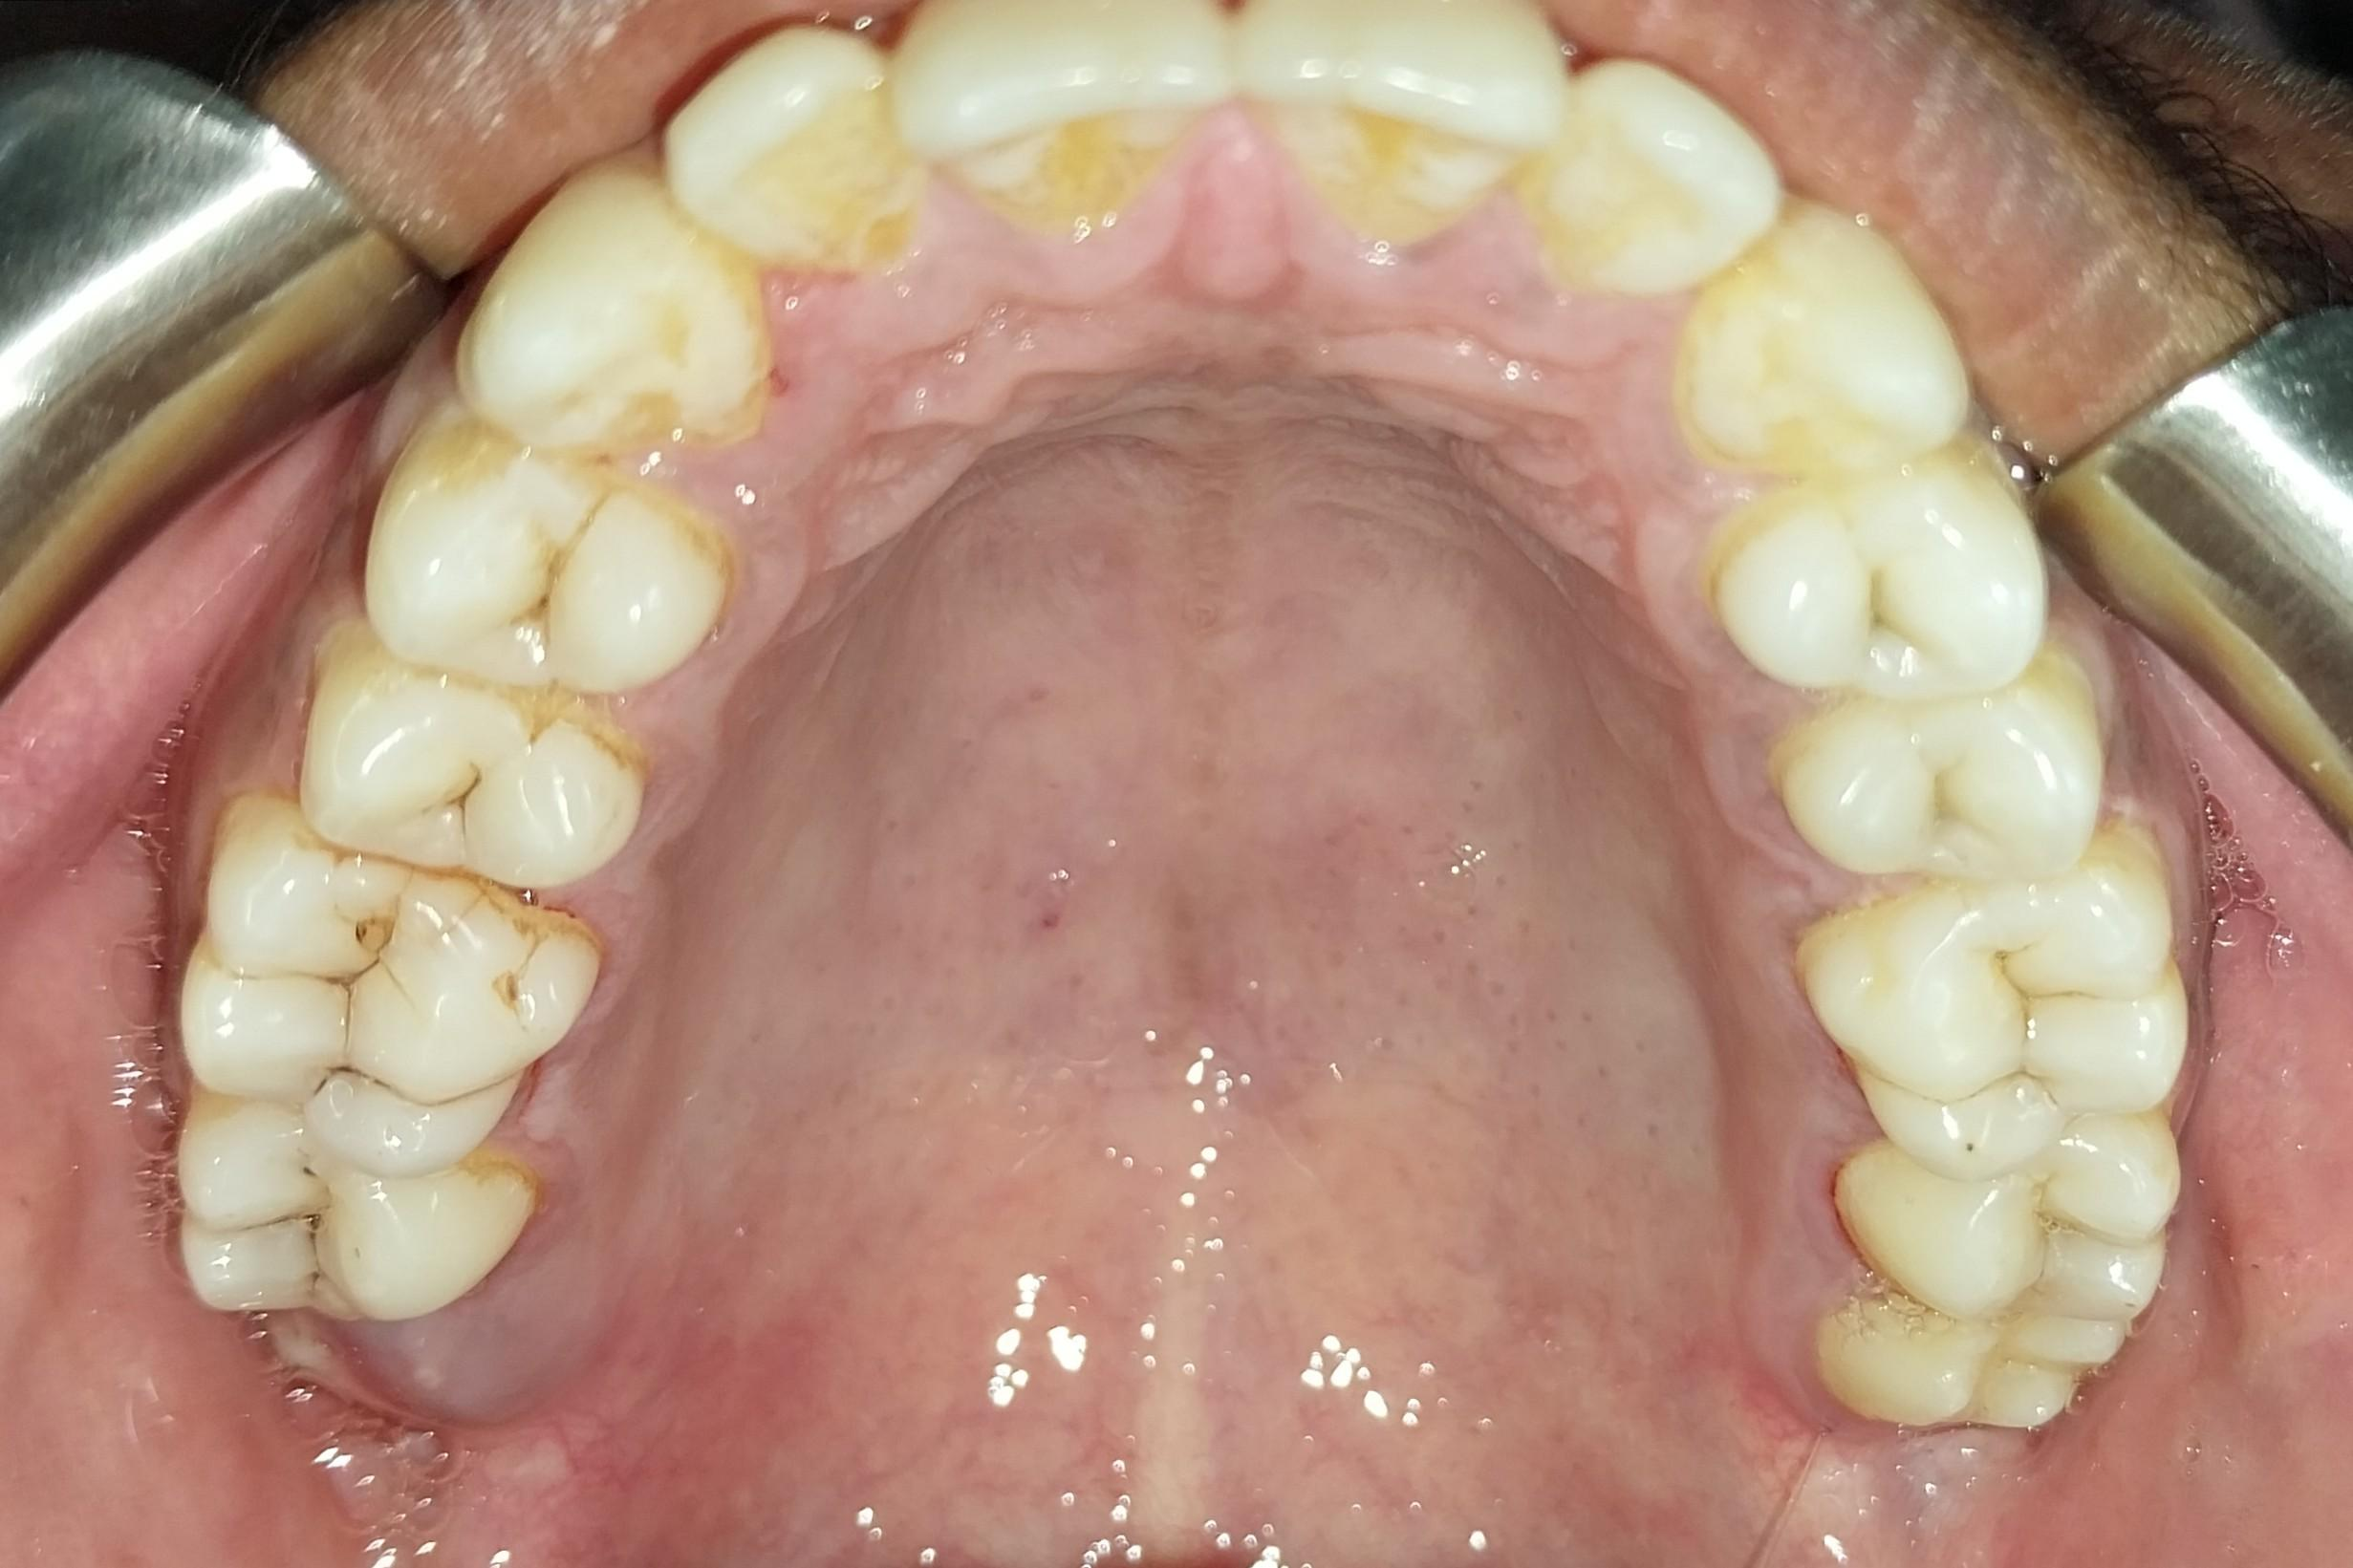D: (194, 815, 582, 1162), (290, 647, 640, 892), (170, 1109, 529, 1321), (1729, 493, 2051, 707)
